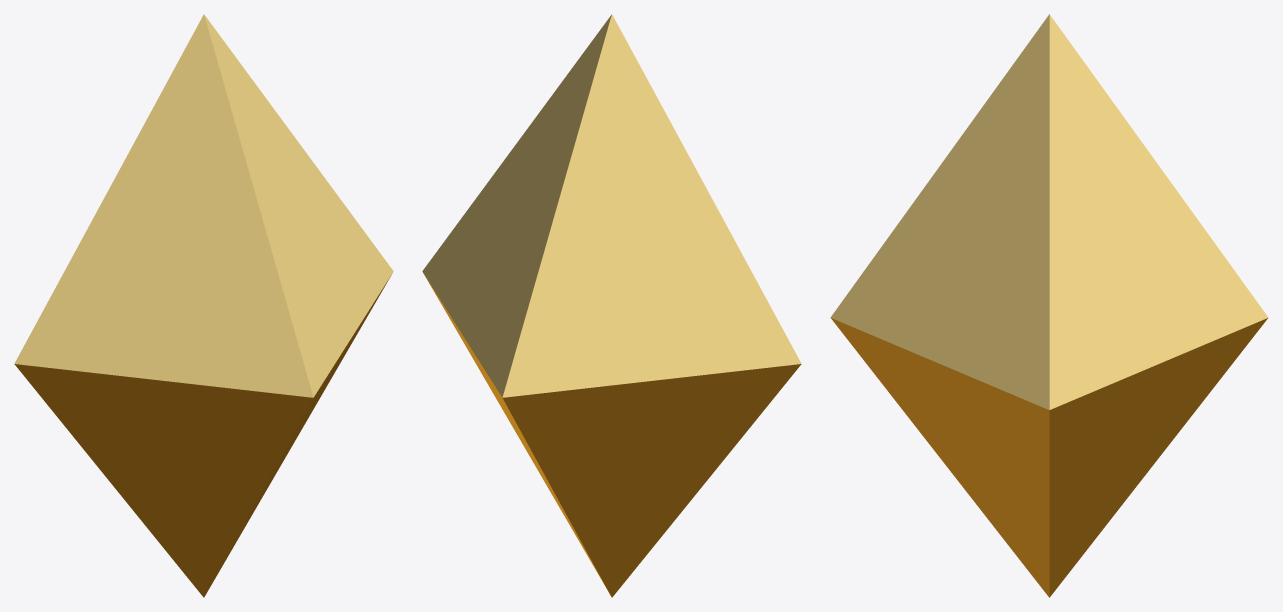
File: item_legendary.glb
3 views of the same model, side by side, from view 1: azimuth 30°, elevation 25°; view 2: azimuth 150°, elevation 25°; view 3: azimuth 270°, elevation 25° (orthographic).
Parts seen in each view (by area): view 1: item_legendary; view 2: item_legendary; view 3: item_legendary.
Boxes of the visible parts, x1,y1,x2,y2 form: item_legendary: (14, 14, 393, 597); item_legendary: (422, 14, 801, 597); item_legendary: (830, 14, 1268, 597).
Bounding box in the file's own units: 0.34 × 0.5 × 0.34.
1 material, 1 textured.
